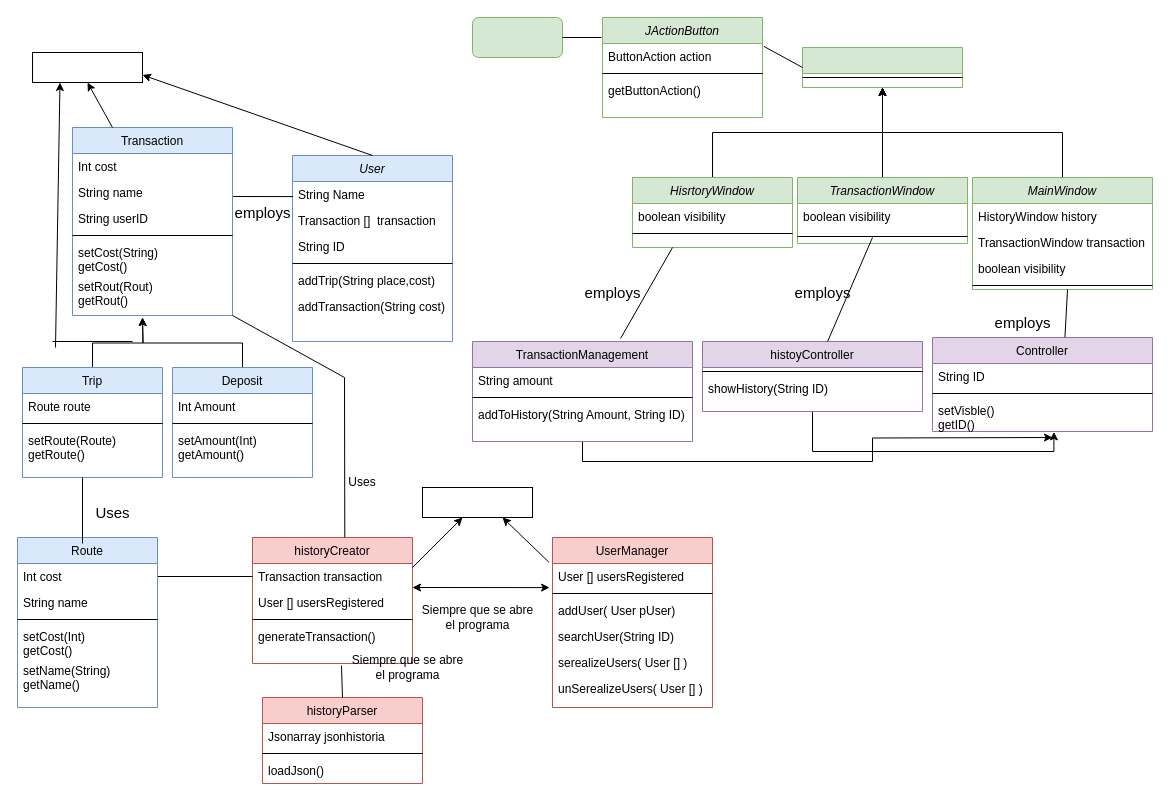
The diagram is 1170 pixels wide and 804 high, and some of its shapes have lost their labels. Each missing label, with the centre of its shape:
<INTERFACE> runable: (477,502)
<INTERFACE> Serializable: (87,67)
Enum ButtonAction: (517,37)
Jframe: (882,67)
